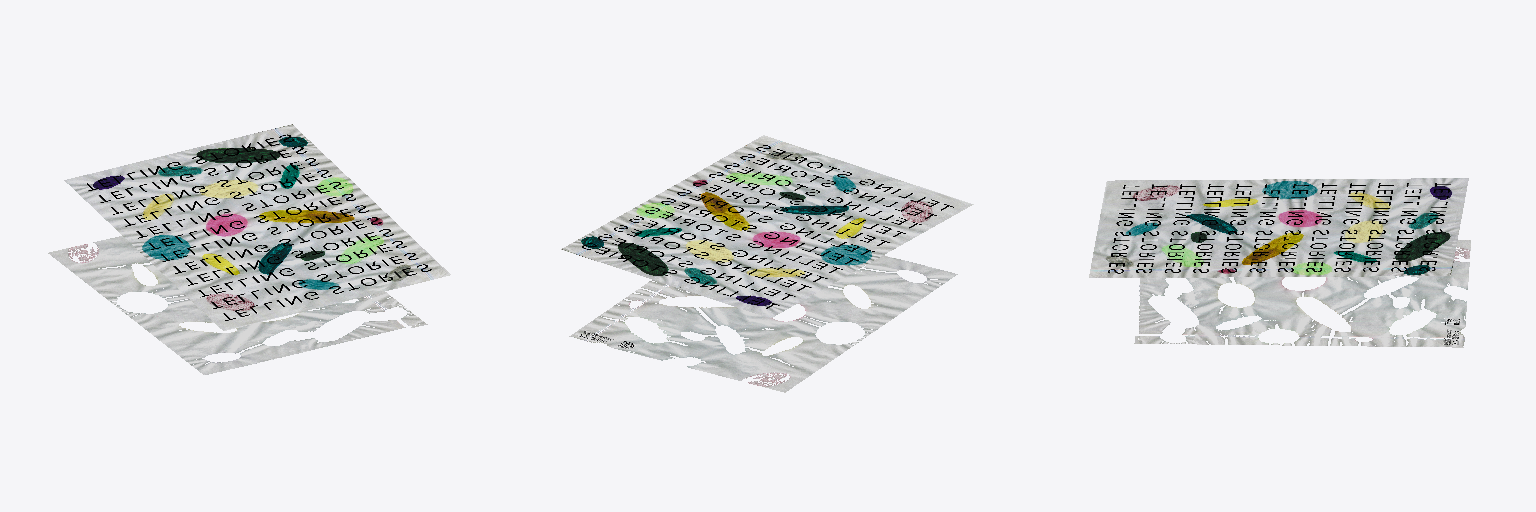
The picture shows the model from 3 angles: view 1: azimuth 30°, elevation 25°; view 2: azimuth 150°, elevation 25°; view 3: azimuth 270°, elevation 25°; orthographic projection.
Parts seen in each view (by area): view 1: Grid.001_Grid.003, Grid_Grid.002; view 2: Grid.001_Grid.003, Grid_Grid.002; view 3: Grid.001_Grid.003, Grid_Grid.002.
Part boxes in pixels (left/top/right/bottom): Grid.001_Grid.003: left=64, top=124, right=450, bottom=330; Grid_Grid.002: left=48, top=236, right=427, bottom=374; Grid.001_Grid.003: left=561, top=135, right=973, bottom=317; Grid_Grid.002: left=569, top=255, right=957, bottom=392; Grid.001_Grid.003: left=1089, top=178, right=1468, bottom=277; Grid_Grid.002: left=1134, top=240, right=1470, bottom=347.
Size of the model in its own units: 3.14 by 0.9742 by 4.28.
Materials: 2 (2 with a texture image).